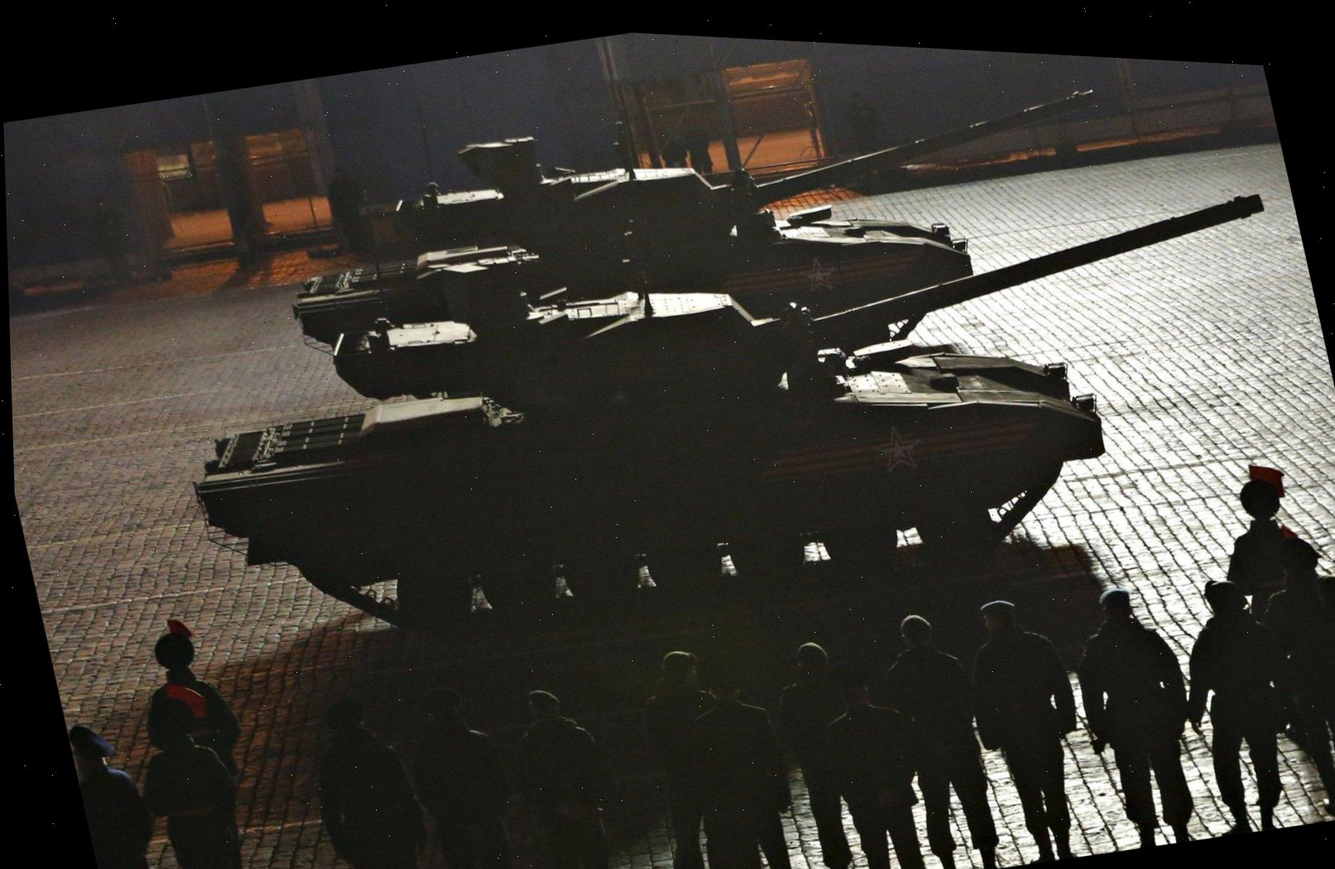person: (1055, 573, 1221, 857), (950, 583, 1110, 869), (1155, 563, 1317, 843), (858, 600, 1013, 869), (122, 617, 277, 869), (657, 635, 817, 869), (615, 641, 759, 869), (756, 630, 891, 869), (390, 673, 543, 869), (802, 654, 940, 869), (120, 684, 277, 869), (498, 675, 643, 869), (294, 688, 448, 869), (1243, 528, 1335, 827), (64, 709, 188, 869), (1205, 465, 1330, 623), (1295, 562, 1335, 818), (310, 149, 380, 267), (80, 188, 143, 293), (839, 85, 888, 157), (677, 115, 717, 177), (649, 120, 689, 172)
tank: (150, 125, 1335, 754), (243, 34, 1003, 457)
